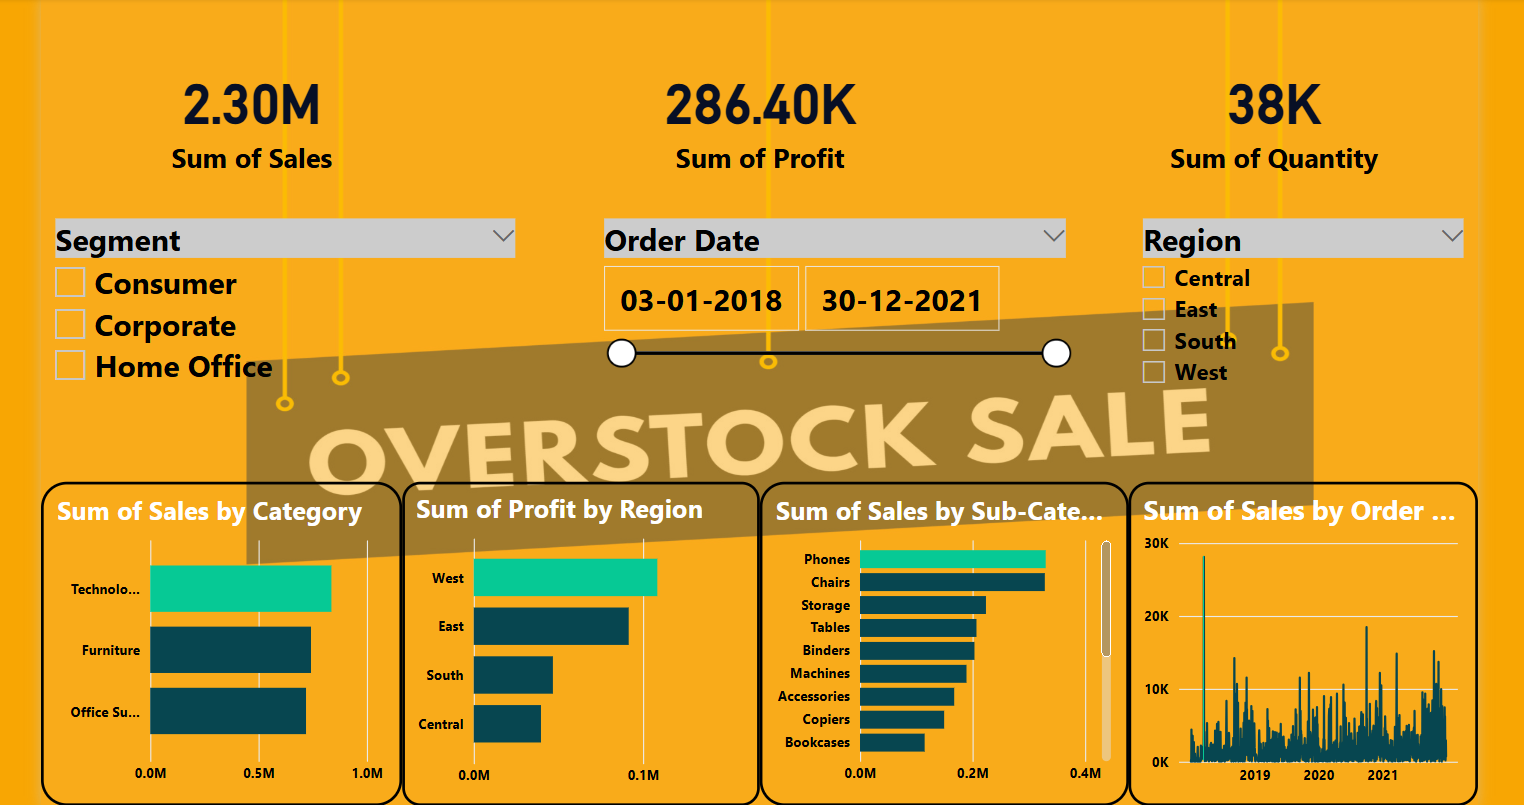

The dashboard page shown, as its layout file describes it:
{"tool":"powerbi","page":{"name":"Page 1","canvas":[1280,720],"ordinal":0},"visuals":[{"type":"card","fields":{"Values":["Sum(Orders.Sales)"]},"box":[0,0,375.7,210],"z":0},{"type":"card","fields":{"Values":["Sum(Orders.Profit)"]},"box":[446.7,0,388.3,210],"z":1000},{"type":"card","fields":{"Values":["Sum(Orders.Quantity)"]},"box":[915.7,0,364.3,210],"z":2000},{"type":"lineChart","fields":{"Y":["Sum(Orders.Sales)"],"Category":["Orders.Order Date"]},"box":[968.8,431.2,311.2,288.8],"z":3000},{"type":"clusteredBarChart","fields":{"Category":["Orders.Category"],"Y":["Sum(Orders.Sales)"]},"box":[0,431.2,321.2,288.8],"z":4000},{"type":"clusteredBarChart","fields":{"Y":["Sum(Orders.Profit)"],"Category":["Orders.Region"]},"box":[321.2,431.2,318.8,288.8],"z":5000},{"type":"clusteredBarChart","fields":{"Y":["Sum(Orders.Sales)"],"Category":["Orders.Sub-Category"]},"box":[640,431.2,328.8,288.8],"z":6000},{"type":"slicer","fields":{"Values":["Orders.Region"]},"box":[968.3,191.7,311.7,180],"z":7000},{"type":"slicer","title":"Order Date","fields":{"Values":["Orders.Order Date"]},"box":[488.3,191.7,436.7,240],"z":8000},{"type":"slicer","fields":{"Values":["Orders.Segment"]},"box":[0,192,435,203],"z":9000}]}

Visuals, with their boxes on the page's 1280x720 design canvas (x1, y1, x2, y2). These are canvas units, not pixel positions in the 1524x805 screenshot, which may show the page scaled, cropped or inside an application window:
card - Sum(Orders.Sales): Rect(0, 0, 376, 210)
card - Sum(Orders.Profit): Rect(447, 0, 835, 210)
card - Sum(Orders.Quantity): Rect(916, 0, 1280, 210)
lineChart - Sum(Orders.Sales) x Orders.Order Date: Rect(969, 431, 1280, 720)
clusteredBarChart - Orders.Category x Sum(Orders.Sales): Rect(0, 431, 321, 720)
clusteredBarChart - Sum(Orders.Profit) x Orders.Region: Rect(321, 431, 640, 720)
clusteredBarChart - Sum(Orders.Sales) x Orders.Sub-Category: Rect(640, 431, 969, 720)
slicer - Orders.Region: Rect(968, 192, 1280, 372)
"Order Date" slicer: Rect(488, 192, 925, 432)
slicer - Orders.Segment: Rect(0, 192, 435, 395)
